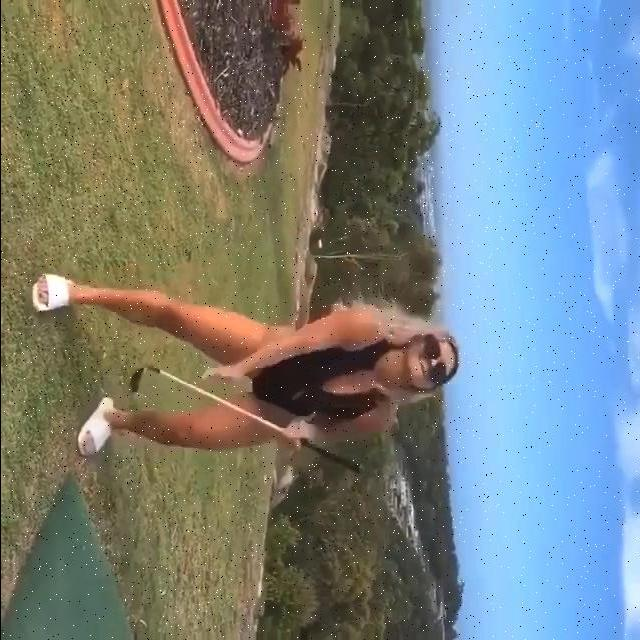ClubHandle: (130, 364, 364, 475)
ClubHead: (129, 364, 144, 392)
